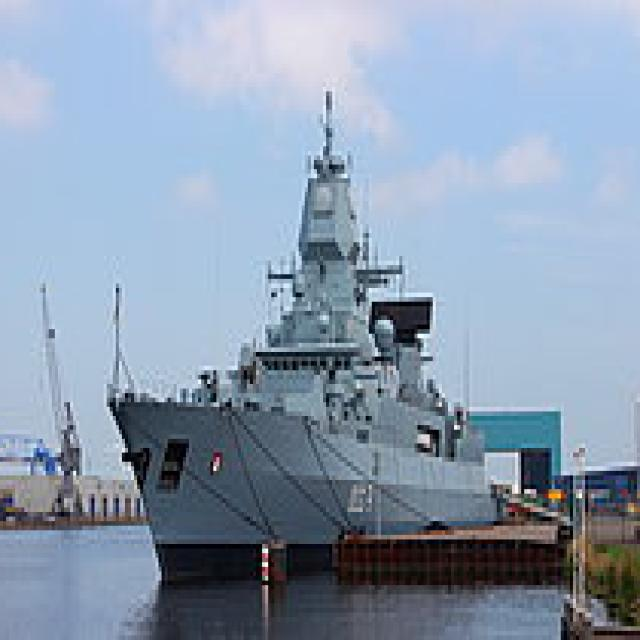Warship: (104, 78, 506, 571)
